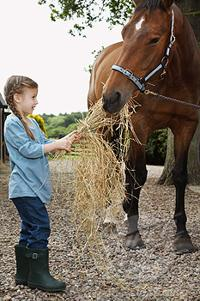person: (3, 76, 82, 295)
